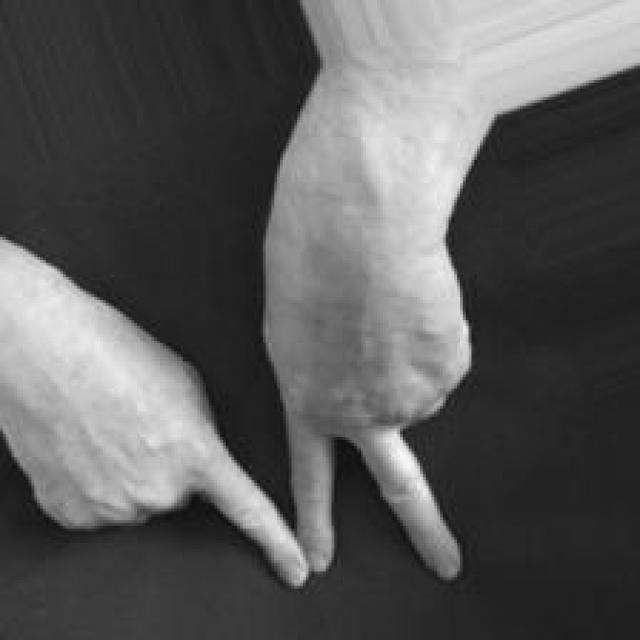N: (0, 205, 475, 598)
